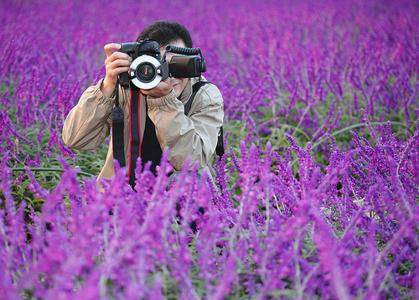person: (61, 21, 222, 196)
